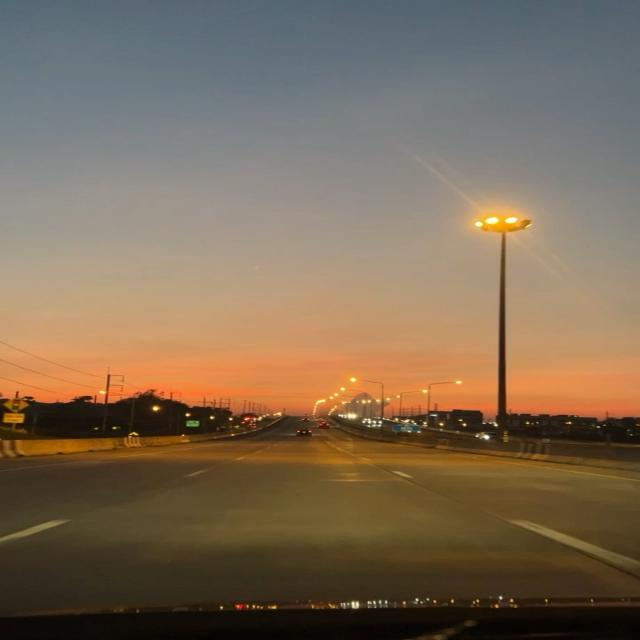Poth-hole: (137, 441, 523, 553)
